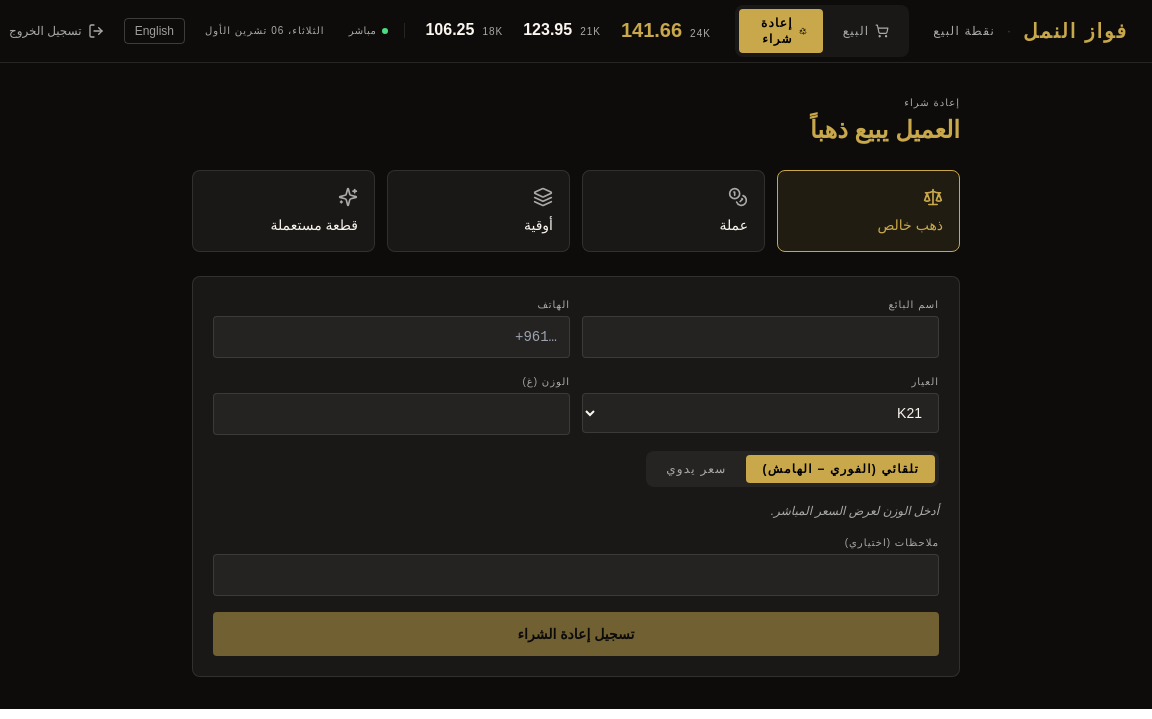
Test case: POS buyback — what is sent is unchanged › a server refusal is shown as the server worded it
Type "Rima" into the field labelled "اسم البائع" at (760, 337), box top-left (582, 316), bottom-right (939, 358)
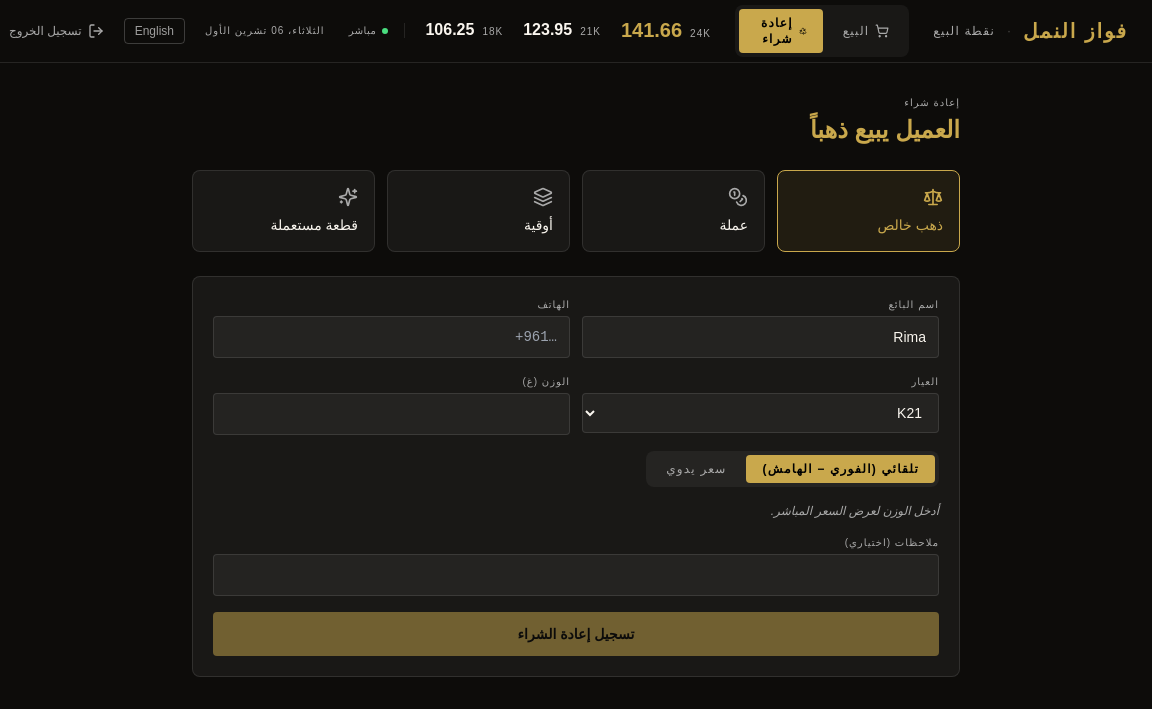
Type "+96170000000" into the field labelled "الهاتف" at (392, 337), box top-left (213, 316), bottom-right (570, 358)
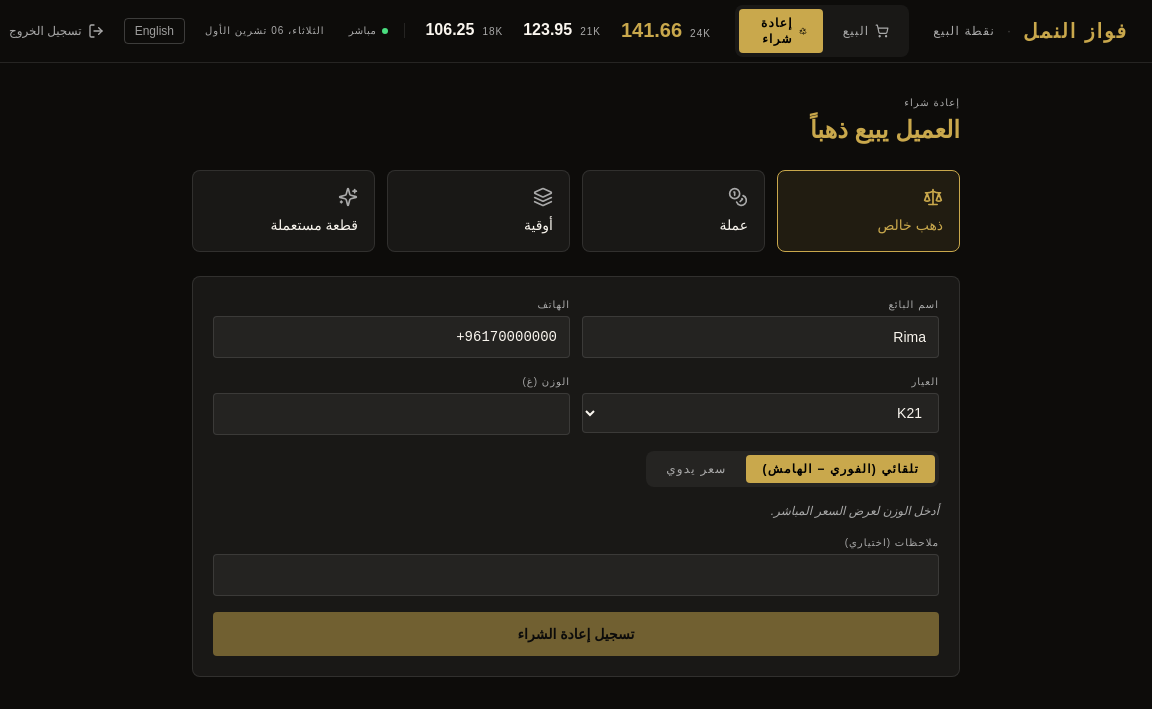
Type "5" into the number field labelled "الوزن (غ)" at (392, 414), box top-left (213, 393), bottom-right (570, 435)
(page scrolled)
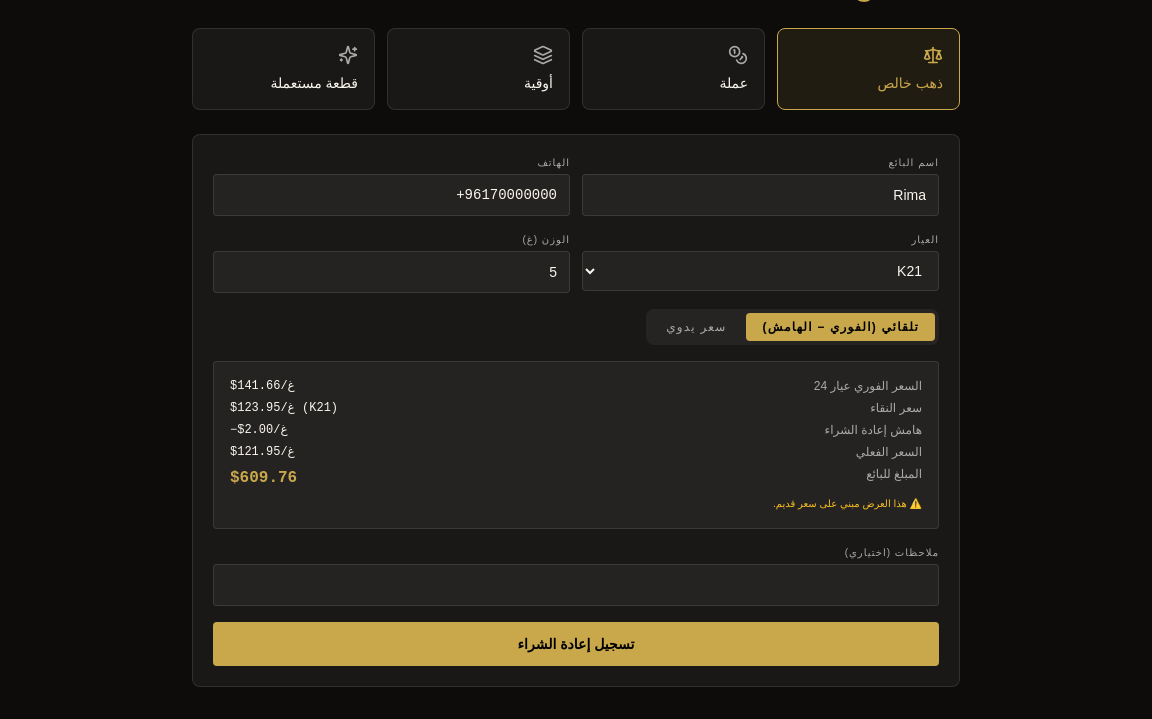
Click the button "تسجيل إعادة الشراء" at (576, 644), box top-left (213, 622), bottom-right (939, 666)
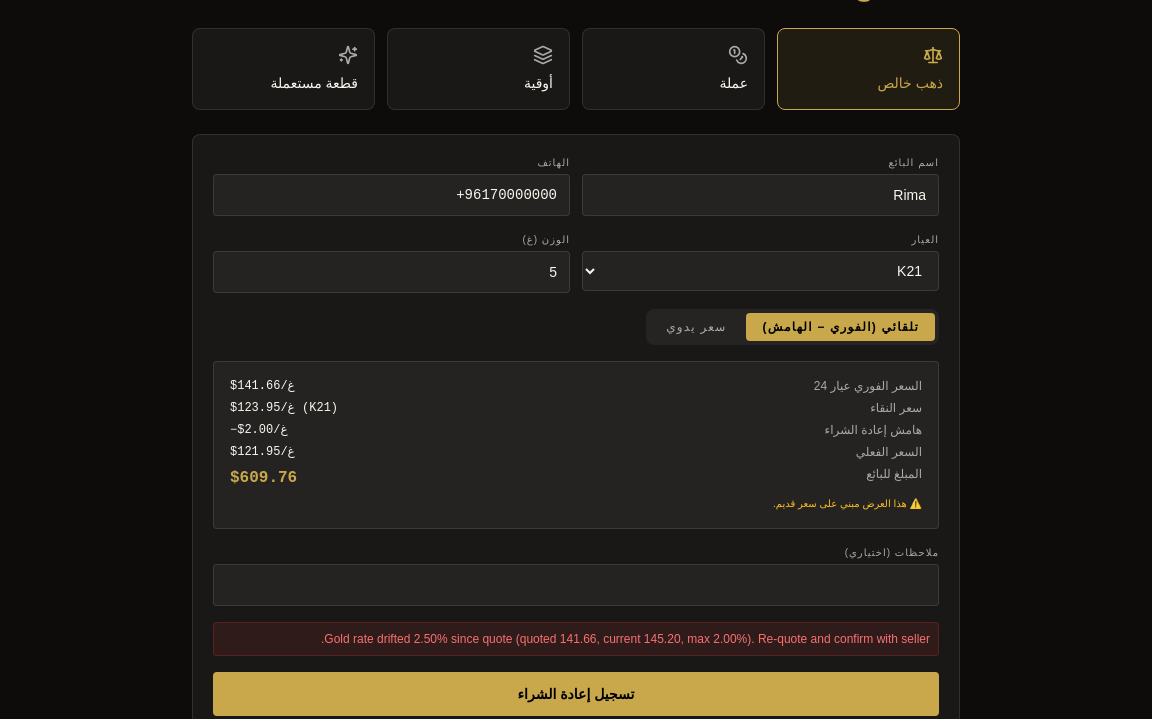
expect the text "Gold rate drifted 2.50% since quote (quoted 141.66, current 145.20, max 2.00%). Re-quote and confirm with seller." is shown: met, box top-left (321, 632), bottom-right (930, 646)
